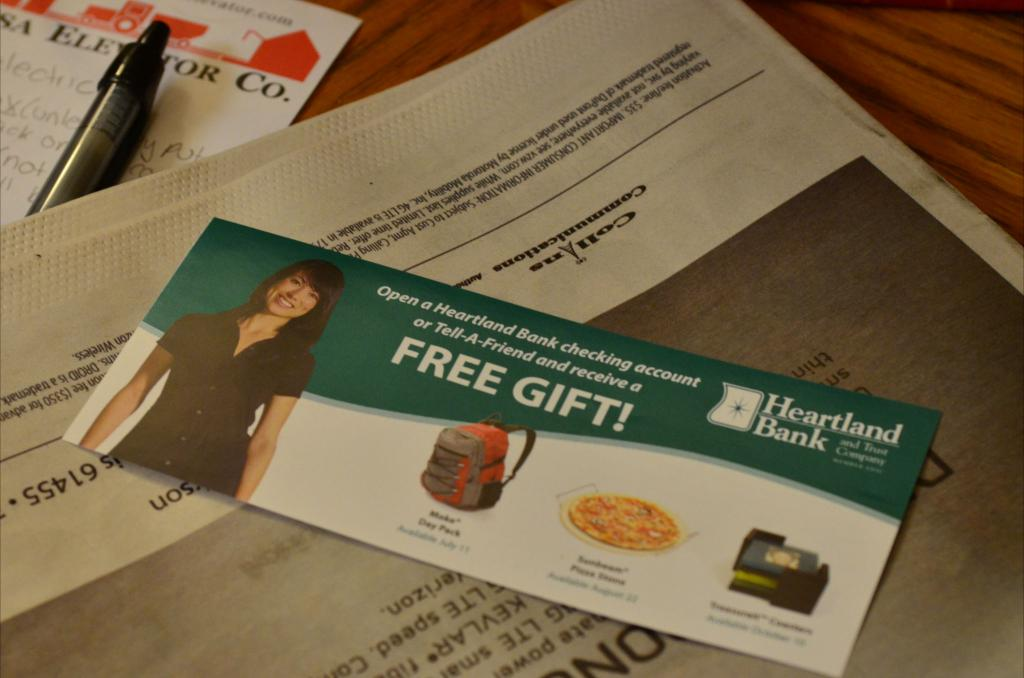Pen: (19, 14, 171, 222)
